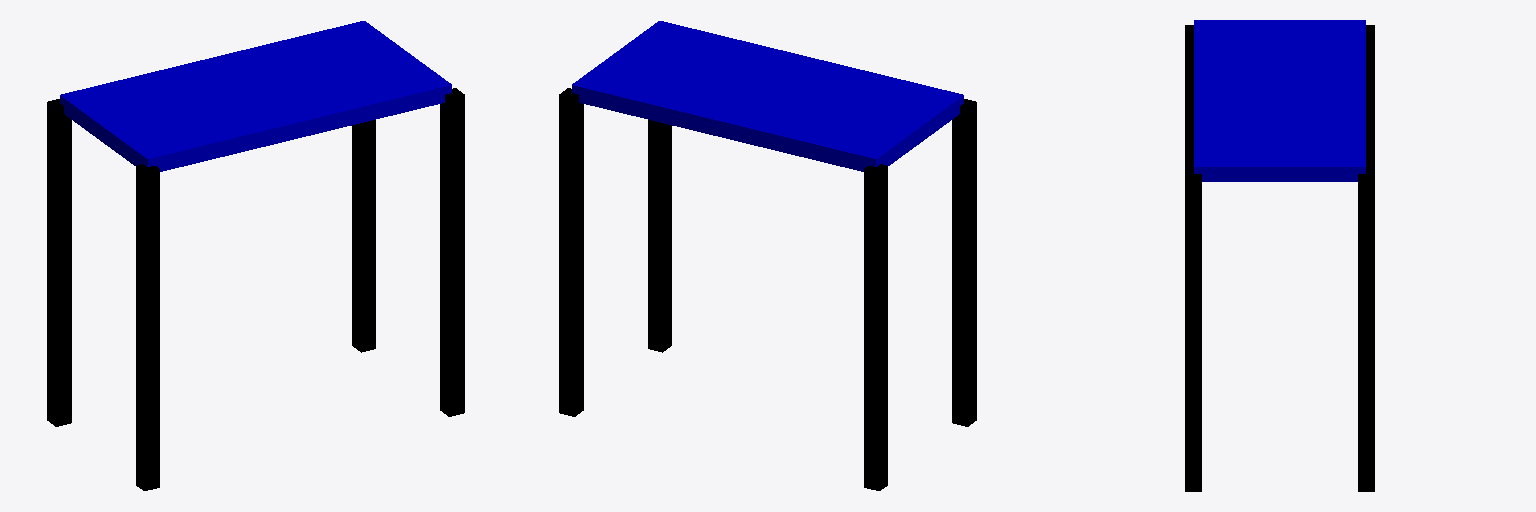
The robot description file, URDF, robot "table_desc":
<?xml version="1.0"?>
<robot name="table_desc">

  <material name="blue">
    <color rgba="0 0 0.8 1"/>
  </material>
  <material name="black">
    <color rgba="0 0 0 1"/>
  </material>

  <!-- Piano del tavolo (radice) -->
  <link name="table_sup">
    <visual>
      <geometry>
        <box size="1.0 0.5 0.05"/>
      </geometry>
      <material name="blue"/>
    </visual>
    <collision>
      <geometry>
        <box size="1.0 0.5 0.05"/>
      </geometry>
    </collision>
    <inertial>
      <origin xyz="0 0 0" rpy="0 0 0"/>
      <mass value="50"/>
      <inertia ixx="1e-3" ixy="0.0" ixz="0.0" iyy="1e-3" iyz="0.0" izz="1e-3"/>
    </inertial>
  </link>

  <!-- Gamba 1 -->
  <link name="leg_1">
    <visual>
      <origin rpy="0 0 0" xyz="0 0 -0.5"/>
      <geometry>
        <box size="0.05 0.05 1.0"/>
      </geometry>
      <material name="black"/>
    </visual>
    <collision>
      <origin rpy="0 0 0" xyz="0 0 -0.5"/>
      <geometry>
        <box size="0.05 0.05 1.0"/>
      </geometry>
    </collision>
    <inertial>
      <origin xyz="0 0 -0.5" rpy="0 0 0"/>
      <mass value="10"/>
      <inertia ixx="1e-3" ixy="0.0" ixz="0.0" iyy="1e-3" iyz="0.0" izz="1e-3"/>
    </inertial>
  </link>

  <!-- Gamba 2 -->
  <link name="leg_2">
    <visual>
      <origin rpy="0 0 0" xyz="0 0 -0.5"/>
      <geometry>
        <box size="0.05 0.05 1.0"/>
      </geometry>
      <material name="black"/>
    </visual>
    <collision>
      <origin rpy="0 0 0" xyz="0 0 -0.5"/>
      <geometry>
        <box size="0.05 0.05 1.0"/>
      </geometry>
    </collision>
    <inertial>
      <origin xyz="0 0 -0.5" rpy="0 0 0"/>
      <mass value="10"/>
      <inertia ixx="1e-3" ixy="0.0" ixz="0.0" iyy="1e-3" iyz="0.0" izz="1e-3"/>
    </inertial>
  </link>

  <!-- Gamba 3 -->
  <link name="leg_3">
    <visual>
      <origin rpy="0 0 0" xyz="0 0 -0.5"/>
      <geometry>
        <box size="0.05 0.05 1.0"/>
      </geometry>
      <material name="black"/>
    </visual>
    <collision>
      <origin rpy="0 0 0" xyz="0 0 -0.5"/>
      <geometry>
        <box size="0.05 0.05 1.0"/>
      </geometry>
    </collision>
    <inertial>
      <origin xyz="0 0 -0.5" rpy="0 0 0"/>
      <mass value="10"/>
      <inertia ixx="1e-3" ixy="0.0" ixz="0.0" iyy="1e-3" iyz="0.0" izz="1e-3"/>
    </inertial>
  </link>

  <!-- Gamba 4 -->
  <link name="leg_4">
    <visual>
      <origin rpy="0 0 0" xyz="0 0 -0.5"/>
      <geometry>
        <box size="0.05 0.05 1.0"/>
      </geometry>
      <material name="black"/>
    </visual>
    <collision>
      <origin rpy="0 0 0" xyz="0 0 -0.5"/>
      <geometry>
        <box size="0.05 0.05 1.0"/>
      </geometry>
    </collision>
    <inertial>
      <origin xyz="0 0 -0.5" rpy="0 0 0"/>
      <mass value="10"/>
      <inertia ixx="1e-3" ixy="0.0" ixz="0.0" iyy="1e-3" iyz="0.0" izz="1e-3"/>
    </inertial>
  </link>

  <!-- Joint: parent = table_sup, child = leg_X (così table_sup è l'unica root) -->
  <joint name="table_to_leg_1" type="fixed">
    <parent link="table_sup"/>
    <child link="leg_1"/>
    <origin xyz="-0.5 -0.25 0" rpy="0 0 0"/>
  </joint>

  <joint name="table_to_leg_2" type="fixed">
    <parent link="table_sup"/>
    <child link="leg_2"/>
    <origin xyz="0.5 -0.25 0" rpy="0 0 0"/>
  </joint>

  <joint name="table_to_leg_3" type="fixed">
    <parent link="table_sup"/>
    <child link="leg_3"/>
    <origin xyz="0.5 0.25 0" rpy="0 0 0"/>
  </joint>

  <joint name="table_to_leg_4" type="fixed">
    <parent link="table_sup"/>
    <child link="leg_4"/>
    <origin xyz="-0.5 0.25 0" rpy="0 0 0"/>
  </joint>

</robot>

--- What the picture shows (computed from the rendered views, not written in the file) ---
Views: 3 orthographic renders of the robot side by side, from view 1: azimuth 30°, elevation 25°; view 2: azimuth 150°, elevation 25°; view 3: azimuth 270°, elevation 25°.
Robot: table_desc — 5 links, 4 joints (4 fixed); root link table_sup; default pose: all joints at 0.
Visible links, largest first — view 1: table_sup, leg_2, leg_4, leg_1, leg_3; view 2: table_sup, leg_3, leg_1, leg_4, leg_2; view 3: table_sup, leg_2, leg_3, leg_1, leg_4.
Link boxes in pixels (x1,y1,x2,y2): table_sup: (60, 21, 451, 171); leg_2: (440, 88, 464, 416); leg_4: (47, 99, 71, 426); leg_1: (136, 164, 159, 490); leg_3: (352, 120, 375, 352); table_sup: (572, 21, 963, 171); leg_3: (559, 88, 583, 416); leg_1: (952, 99, 976, 426); leg_4: (864, 164, 887, 490); leg_2: (648, 120, 671, 352); table_sup: (1194, 20, 1365, 181); leg_2: (1185, 171, 1201, 491); leg_3: (1358, 171, 1374, 491); leg_1: (1185, 25, 1193, 170); leg_4: (1366, 25, 1374, 170).
Bounding box of the posed robot: 1.05 × 0.55 × 1.02 m (x, y, z).
Geometry: primitives only (box / cylinder / sphere), no mesh files.
